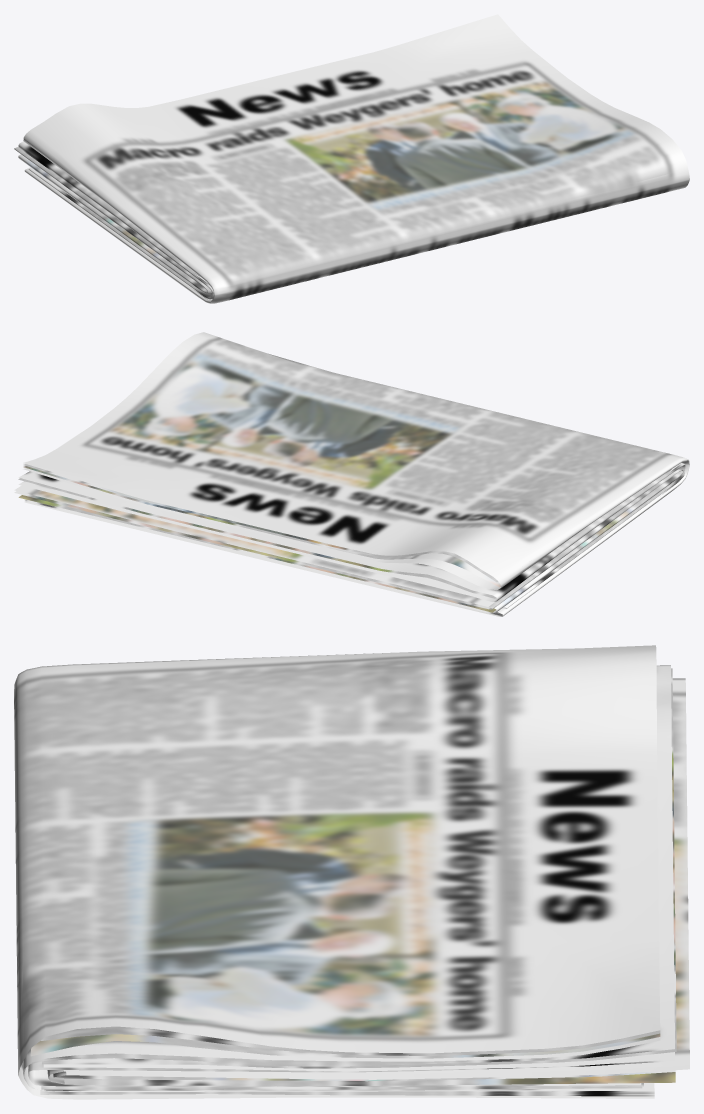
The model's file is Newspaper.FBX.
The picture shows the model from 3 angles, top to bottom: view 1: azimuth 30°, elevation 25°; view 2: azimuth 150°, elevation 25°; view 3: azimuth 270°, elevation 25°; orthographic projection. The views are drawn at different scales.
Parts seen in each view (by area): view 1: newspaper; view 2: newspaper; view 3: newspaper.
Boxes of the visible parts, x1,y1,x2,y2 form: newspaper: (14,14,689,303); newspaper: (14,332,689,616); newspaper: (14,645,689,1099).
Bounding box in the file's own units: 32.74 × 3.57 × 23.77.
Materials: 1 (1 with a texture image).
